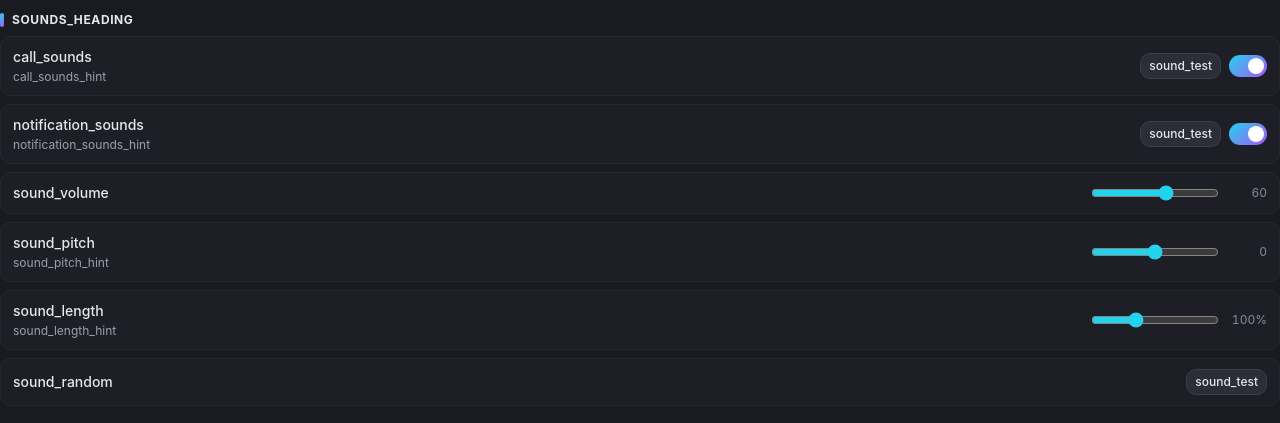
Test case: SoundsSection › changes the pitch in semitones and shows the sign
Set the slider with test id "sounds-pitch" to "4" at x=1174, y=252, box [1091,244,1219,260]
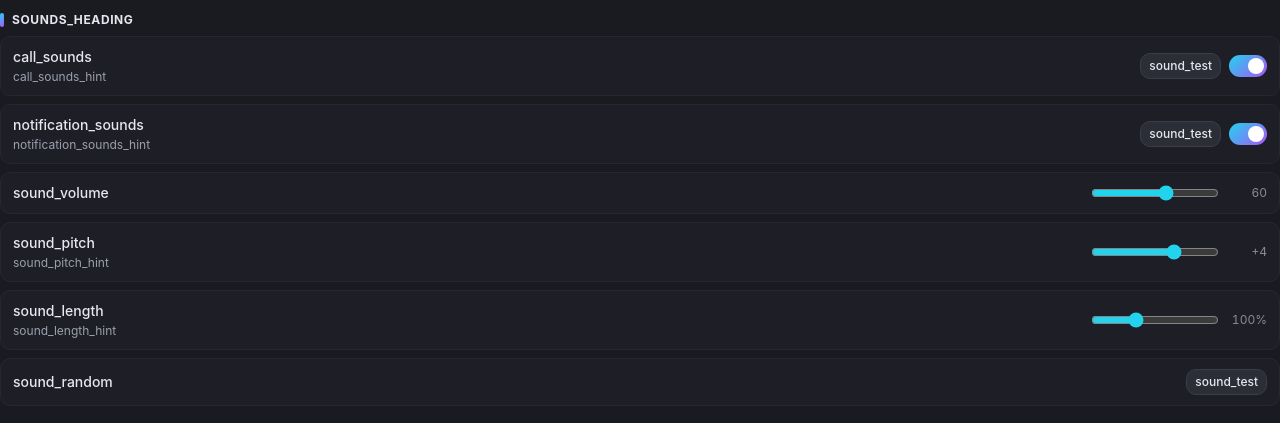
Result: the text with test id "sounds-pitch-value" reads "+4" at [1251,244,1267,259]
Set the slider with test id "sounds-pitch" to "-6" at x=1127, y=252, box [1091,244,1219,260]
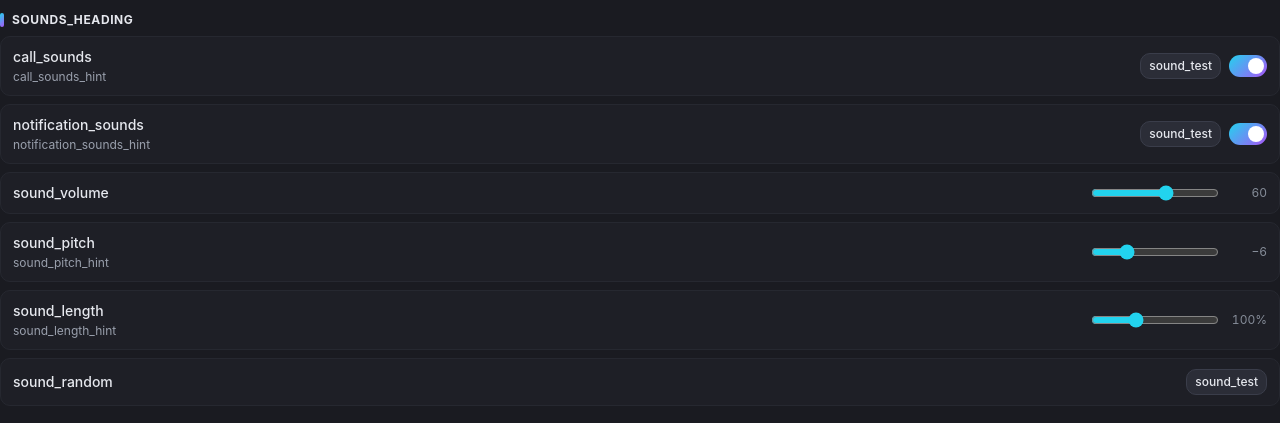
Result: the text with test id "sounds-pitch-value" reads "−6" at [1251,244,1267,259]
